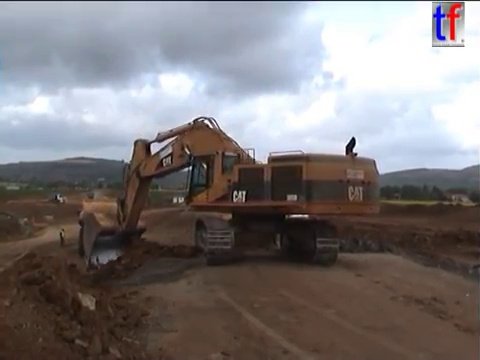excavator: (79, 114, 383, 269)
truck: (75, 194, 135, 262), (182, 188, 204, 208), (46, 192, 69, 205)
worker: (57, 226, 67, 248)
